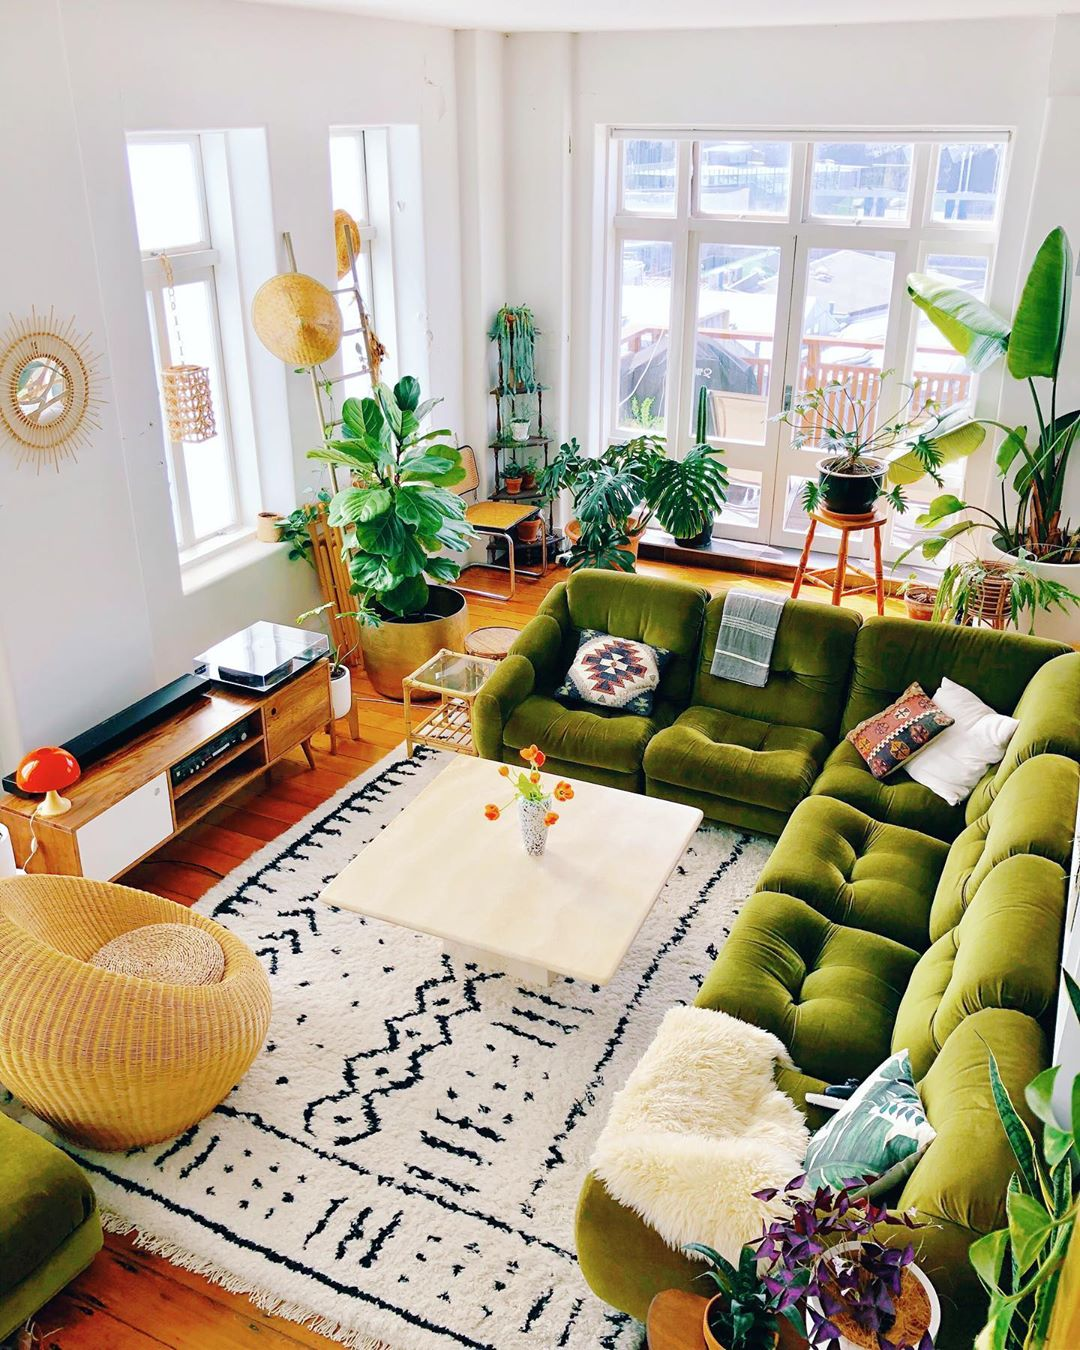hijau: (496, 577, 1080, 791), (791, 799, 1074, 1037)
hitam: (820, 464, 884, 514)
orange: (14, 746, 83, 790)
putih: (331, 755, 692, 975)
